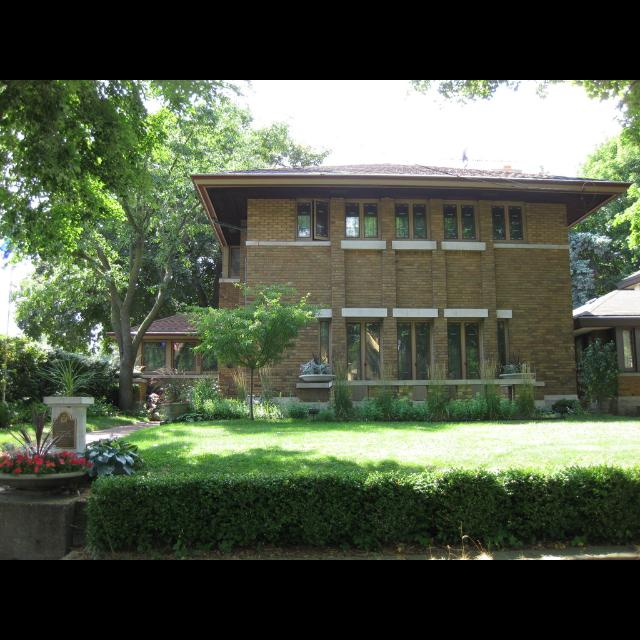Flower: (0, 444, 92, 472), (29, 456, 45, 466)
